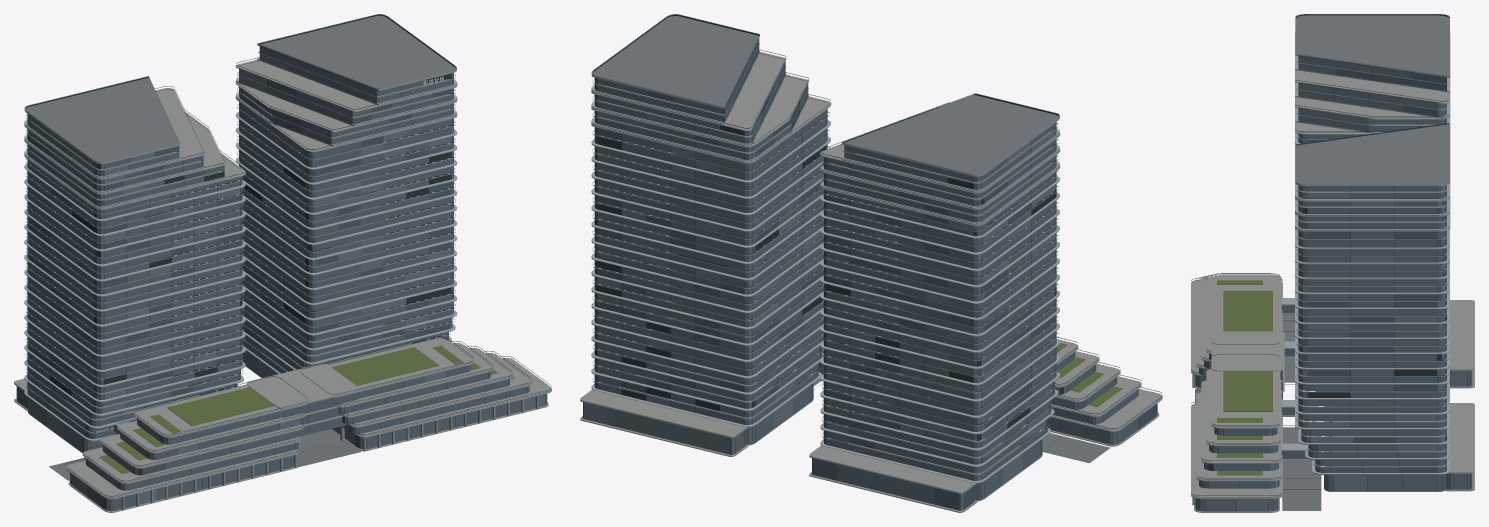
Rendered from lvfeng-center-reflective.glb.
3 views of the same model, side by side, from view 1: azimuth 30°, elevation 25°; view 2: azimuth 150°, elevation 25°; view 3: azimuth 270°, elevation 25° (orthographic). The views are drawn at different scales.
Parts seen in each view (by area): view 1: LvfengEast_Curtain wall · glazing and mullions, LvfengWest_Curtain wall · glazing and mullions, LvfengPodium_Tiered podium rims and glazed bridges, LvfengWest_Rounded aluminium fins and spandrels, LvfengEast_Rounded aluminium fins and spandrels, LvfengPodium_Shopfronts and bridge glazing, LvfengEast_Roof and three recessed terraces, LvfengWest_Roof and three recessed terraces, LvfengPodium_Planted roof and terrace beds, LvfengPodium_Entrance steps, columns and inner street, LvfengWest_Lobby glazing base and entrance posts; view 2: LvfengWest_Curtain wall · glazing and mullions, LvfengEast_Curtain wall · glazing and mullions, LvfengWest_Rounded aluminium fins and spandrels, LvfengEast_Rounded aluminium fins and spandrels, LvfengEast_Roof and three recessed terraces, LvfengWest_Roof and three recessed terraces, LvfengPodium_Tiered podium rims and glazed bridges, LvfengEast_Lobby glazing base and entrance posts, LvfengWest_Lobby glazing base and entrance posts, LvfengPodium_Shopfronts and bridge glazing, LvfengPodium_Entrance steps, columns and inner street, LvfengPodium_Planted roof and terrace beds; view 3: LvfengEast_Curtain wall · glazing and mullions, LvfengPodium_Tiered podium rims and glazed bridges, LvfengEast_Rounded aluminium fins and spandrels, LvfengWest_Roof and three recessed terraces, LvfengEast_Roof and three recessed terraces, LvfengWest_Curtain wall · glazing and mullions, LvfengPodium_Planted roof and terrace beds, LvfengPodium_Shopfronts and bridge glazing, LvfengPodium_Entrance steps, columns and inner street, LvfengWest_Rounded aluminium fins and spandrels, LvfengEast_Lobby glazing base and entrance posts, LvfengWest_Lobby glazing base and entrance posts.
Part boxes in pixels (left/top/right/bottom): LvfengEast_Curtain wall · glazing and mullions: left=230, top=46, right=453, bottom=377; LvfengWest_Curtain wall · glazing and mullions: left=16, top=114, right=242, bottom=452; LvfengPodium_Tiered podium rims and glazed bridges: left=65, top=336, right=551, bottom=499; LvfengWest_Rounded aluminium fins and spandrels: left=24, top=76, right=245, bottom=441; LvfengEast_Rounded aluminium fins and spandrels: left=235, top=14, right=457, bottom=373; LvfengPodium_Shopfronts and bridge glazing: left=70, top=365, right=547, bottom=511; LvfengEast_Roof and three recessed terraces: left=235, top=15, right=457, bottom=152; LvfengWest_Roof and three recessed terraces: left=24, top=77, right=245, bottom=209; LvfengPodium_Planted roof and terrace beds: left=99, top=345, right=514, bottom=473; LvfengPodium_Entrance steps, columns and inner street: left=49, top=395, right=548, bottom=512; LvfengWest_Lobby glazing base and entrance posts: left=14, top=370, right=199, bottom=452; LvfengWest_Curtain wall · glazing and mullions: left=812, top=122, right=1056, bottom=510; LvfengEast_Curtain wall · glazing and mullions: left=583, top=38, right=827, bottom=454; LvfengWest_Rounded aluminium fins and spandrels: left=820, top=93, right=1059, bottom=483; LvfengEast_Rounded aluminium fins and spandrels: left=591, top=14, right=830, bottom=427; LvfengEast_Roof and three recessed terraces: left=591, top=16, right=831, bottom=163; LvfengWest_Roof and three recessed terraces: left=820, top=95, right=1060, bottom=226; LvfengPodium_Tiered podium rims and glazed bridges: left=641, top=278, right=1162, bottom=431; LvfengEast_Lobby glazing base and entrance posts: left=580, top=349, right=813, bottom=456; LvfengWest_Lobby glazing base and entrance posts: left=809, top=405, right=1042, bottom=512; LvfengPodium_Shopfronts and bridge glazing: left=641, top=315, right=1157, bottom=444; LvfengPodium_Entrance steps, columns and inner street: left=641, top=343, right=1159, bottom=463; LvfengPodium_Planted roof and terrace beds: left=764, top=282, right=1122, bottom=406; LvfengEast_Curtain wall · glazing and mullions: left=1298, top=185, right=1472, bottom=490; LvfengPodium_Tiered podium rims and glazed bridges: left=1191, top=273, right=1318, bottom=498; LvfengEast_Rounded aluminium fins and spandrels: left=1295, top=123, right=1449, bottom=474; LvfengWest_Roof and three recessed terraces: left=1295, top=15, right=1450, bottom=134; LvfengEast_Roof and three recessed terraces: left=1295, top=124, right=1450, bottom=231; LvfengWest_Curtain wall · glazing and mullions: left=1298, top=56, right=1472, bottom=386; LvfengPodium_Planted roof and terrace beds: left=1217, top=280, right=1272, bottom=475; LvfengPodium_Shopfronts and bridge glazing: left=1195, top=305, right=1317, bottom=511; LvfengPodium_Entrance steps, columns and inner street: left=1192, top=315, right=1321, bottom=512; LvfengWest_Rounded aluminium fins and spandrels: left=1295, top=14, right=1449, bottom=148; LvfengEast_Lobby glazing base and entrance posts: left=1324, top=403, right=1474, bottom=491; LvfengWest_Lobby glazing base and entrance posts: left=1450, top=300, right=1474, bottom=388.
Size of the model in its own units: 1.9 by 1.26 by 1.05.
